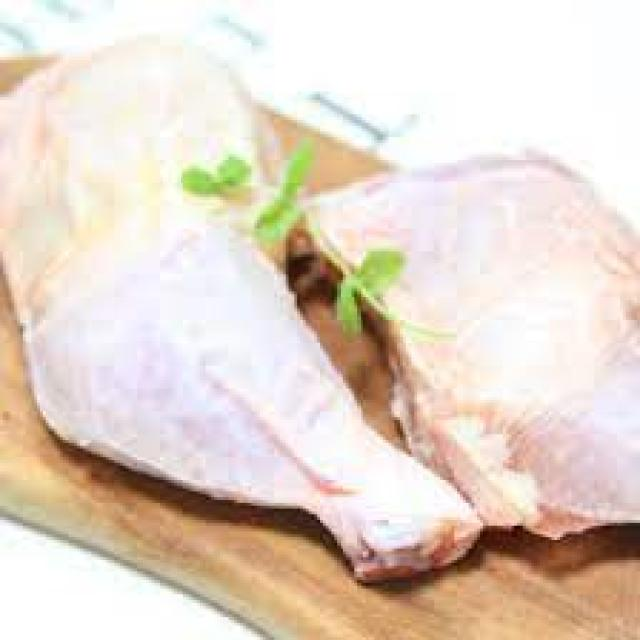chicken: (0, 17, 486, 589), (303, 134, 640, 549)
